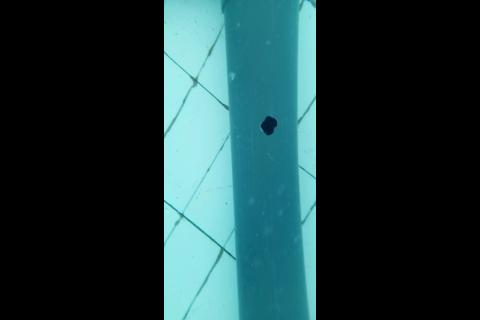kebocoran: (259, 114, 279, 136)
